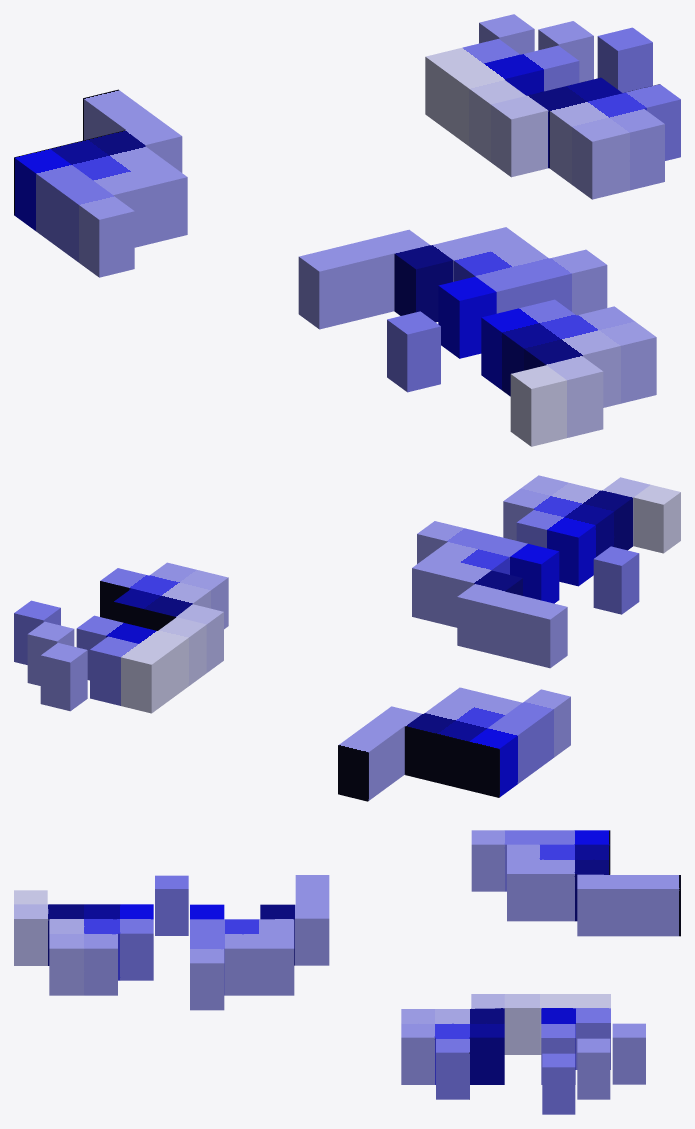
File: broken_dish_546x14.gltf
The picture shows the model from 3 angles, top to bottom: view 1: azimuth 30°, elevation 25°; view 2: azimuth 150°, elevation 25°; view 3: azimuth 270°, elevation 25°; orthographic projection. The views are drawn at different scales.
Parts seen in each view (by area): view 1: broken_dish_546x14; view 2: broken_dish_546x14; view 3: broken_dish_546x14.
Part boxes in pixels (bbox=[...]): broken_dish_546x14: bbox=[14, 14, 680, 446]; broken_dish_546x14: bbox=[14, 475, 680, 801]; broken_dish_546x14: bbox=[14, 830, 680, 1114].
Bounding box in the file's own units: 0.7457 × 0.069 × 0.8869.
Materials: 1 (1 with a texture image).
